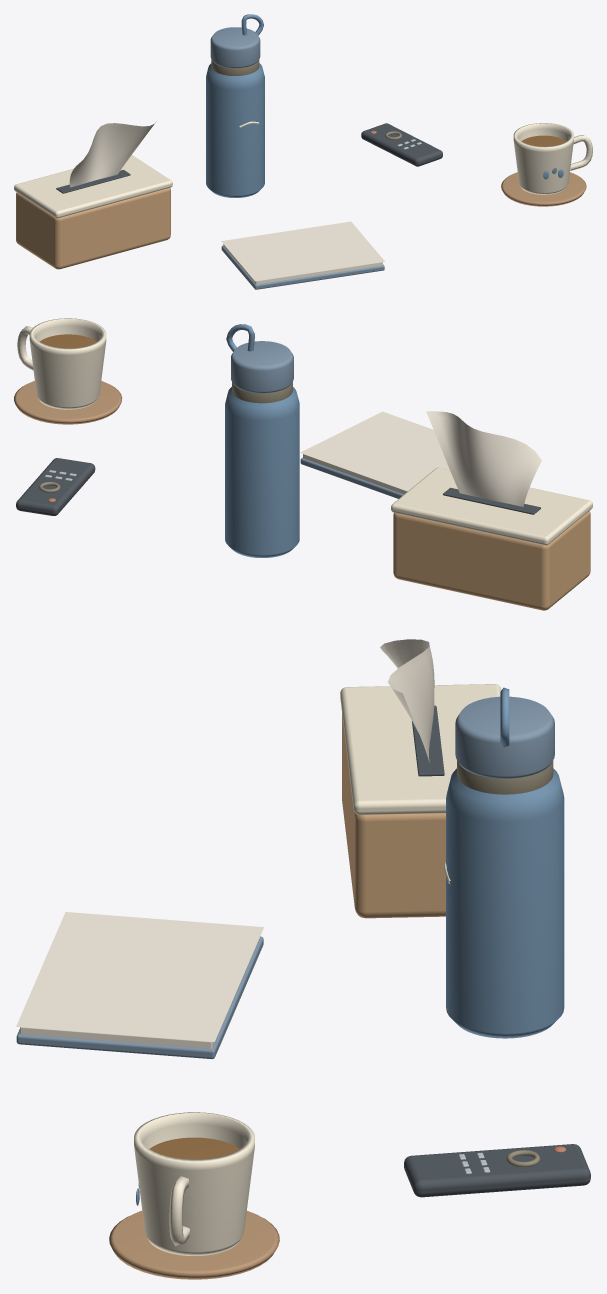
Rendered from family-weekend-tea-v1.glb.
The picture shows the model from 3 angles, top to bottom: view 1: azimuth 30°, elevation 25°; view 2: azimuth 150°, elevation 25°; view 3: azimuth 270°, elevation 25°; orthographic projection. The views are drawn at different scales.
Parts seen in each view (by area): view 1: Birch tissue sleeve, Powder blue flask, Weekend print, Ivory sleeve lid, Glazed tea cup, Folded tissue, Cup cap, TV remote, Cork coaster, Magazine cover, Magazine leaves, Tissue slot (+3 smaller); view 2: Birch tissue sleeve, Powder blue flask, Ivory sleeve lid, Weekend print, Folded tissue, Glazed tea cup, Cup cap, TV remote, Cork coaster, Magazine cover, Tissue slot, Bottle collar (+4 smaller); view 3: Powder blue flask, Weekend print, Glazed tea cup, Ivory sleeve lid, Birch tissue sleeve, TV remote, Cup cap, Cork coaster, Folded tissue, Magazine cover, Magazine leaves, Bottle collar (+3 smaller).
Boxes of the visible parts, bbox=[...] form: Birch tissue sleeve: bbox=[16, 188, 170, 269]; Powder blue flask: bbox=[206, 63, 264, 197]; Weekend print: bbox=[221, 221, 384, 281]; Ivory sleeve lid: bbox=[14, 155, 172, 218]; Glazed tea cup: bbox=[513, 123, 573, 194]; Folded tissue: bbox=[69, 121, 156, 187]; Cup cap: bbox=[210, 27, 260, 68]; TV remote: bbox=[361, 123, 442, 166]; Cork coaster: bbox=[501, 172, 586, 206]; Magazine cover: bbox=[221, 245, 384, 289]; Magazine leaves: bbox=[223, 244, 382, 284]; Tissue slot: bbox=[56, 170, 130, 193]; Birch tissue sleeve: bbox=[393, 511, 590, 610]; Powder blue flask: bbox=[225, 387, 299, 557]; Ivory sleeve lid: bbox=[391, 467, 592, 545]; Weekend print: bbox=[300, 411, 449, 491]; Folded tissue: bbox=[426, 411, 541, 506]; Glazed tea cup: bbox=[29, 318, 106, 409]; Cup cap: bbox=[231, 341, 293, 393]; TV remote: bbox=[16, 458, 95, 515]; Cork coaster: bbox=[14, 381, 122, 424]; Magazine cover: bbox=[300, 457, 403, 498]; Tissue slot: bbox=[443, 487, 540, 514]; Bottle collar: bbox=[232, 382, 292, 403]; Powder blue flask: bbox=[446, 768, 564, 1038]; Weekend print: bbox=[16, 912, 263, 1041]; Glazed tea cup: bbox=[134, 1112, 254, 1255]; Ivory sleeve lid: bbox=[340, 684, 501, 814]; Birch tissue sleeve: bbox=[342, 713, 445, 918]; TV remote: bbox=[404, 1144, 590, 1197]; Cup cap: bbox=[455, 696, 554, 778]; Cork coaster: bbox=[109, 1210, 279, 1279]; Folded tissue: bbox=[380, 639, 434, 762]; Magazine cover: bbox=[16, 936, 263, 1059]; Magazine leaves: bbox=[20, 937, 260, 1048]; Bottle collar: bbox=[457, 760, 553, 794].
Size of the model in its own units: 0.7403 by 0.2432 by 0.3701.
